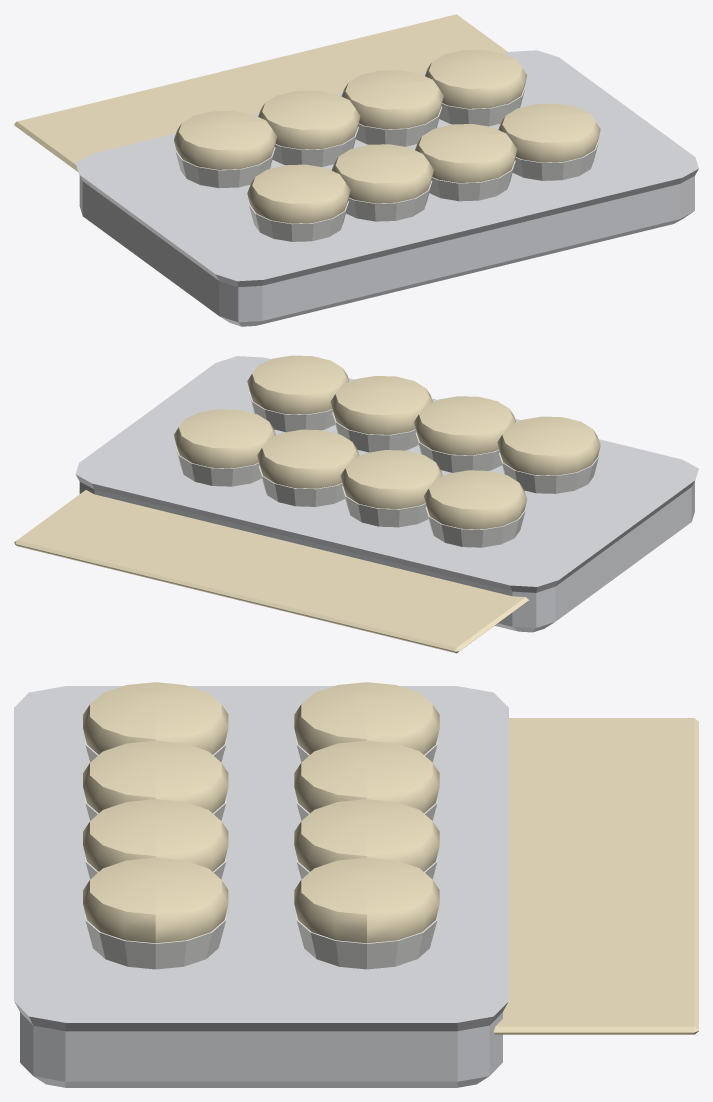
File: butchers-shop-and-deli-counter-pie-and-pastry-tray-37c3f9a6__34430.glb
3 views of the same model, one above another, from view 1: azimuth 30°, elevation 25°; view 2: azimuth 150°, elevation 25°; view 3: azimuth 270°, elevation 25° (orthographic). The views are drawn at different scales.
Parts seen in each view (by area): view 1: pie-and-pastry-tray; view 2: pie-and-pastry-tray; view 3: pie-and-pastry-tray.
Part boxes in pixels (x1,y1,x2,y2): pie-and-pastry-tray: (14, 14, 698, 326); pie-and-pastry-tray: (14, 355, 698, 653); pie-and-pastry-tray: (14, 682, 698, 1087).
Size of the model in its own units: 0.528 by 0.102 by 0.454.
